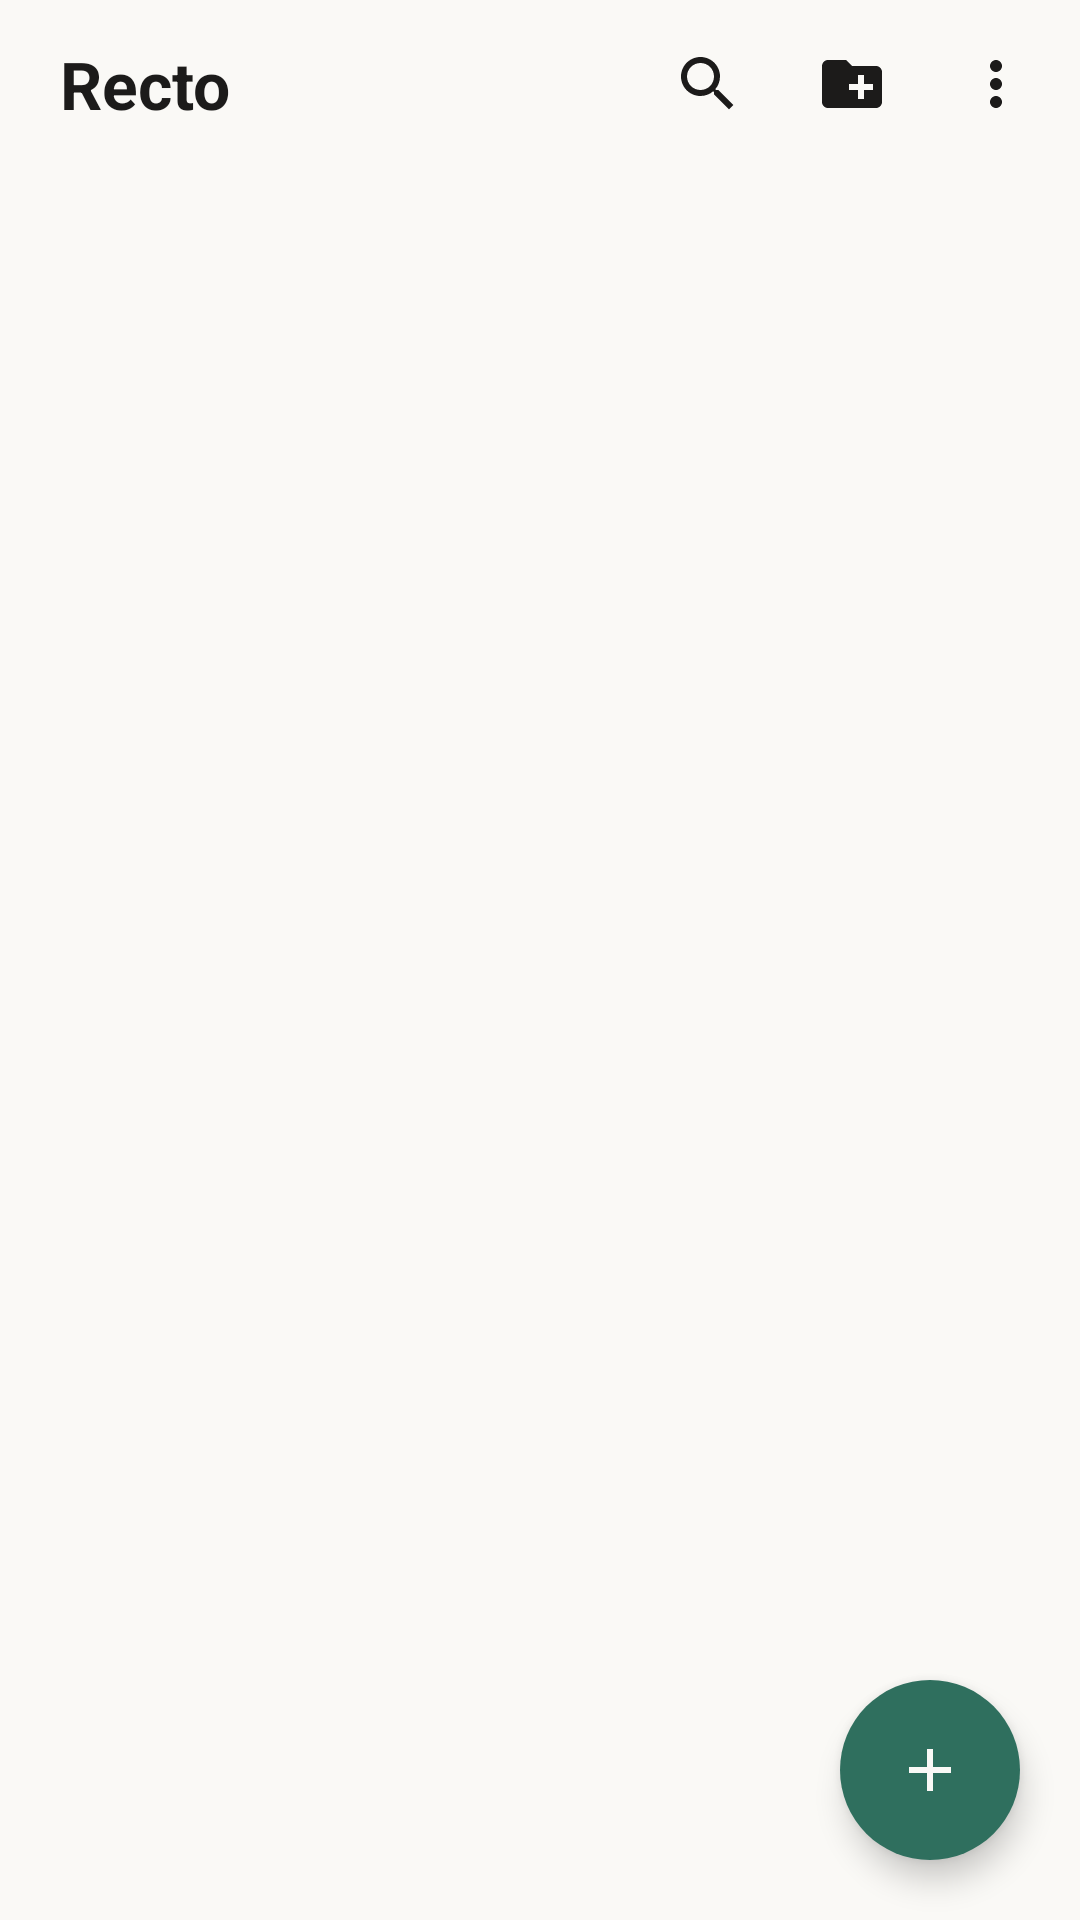

Where icons sit on this 1080x1920 app screen, as BBox(x1, y1, x2, y2):
Add folder: BBox(822, 60, 882, 108)
More options: BBox(990, 60, 1002, 108)
